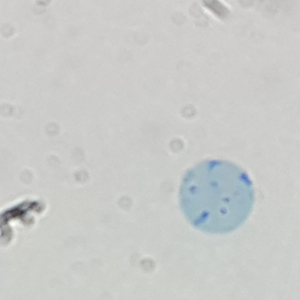aggregate reticulocyte: (175, 156, 257, 236)
